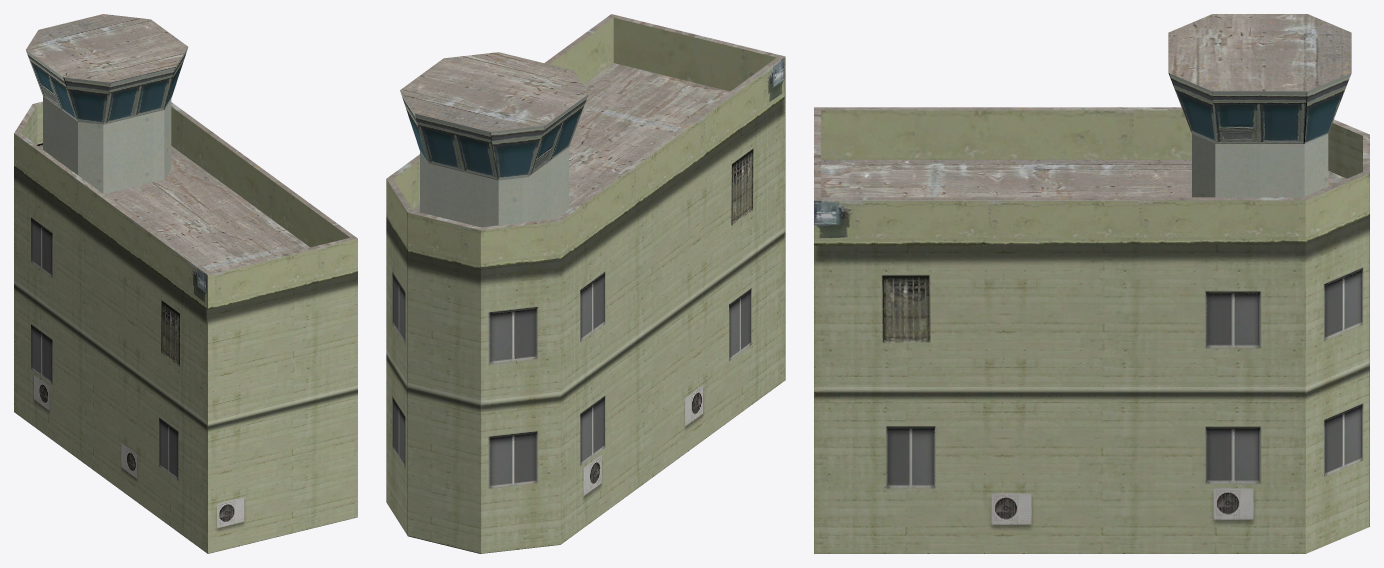
The model's file is llmg_twr.gltf.
The picture shows the model from 3 angles, left to right: view 1: azimuth 30°, elevation 25°; view 2: azimuth 150°, elevation 25°; view 3: azimuth 270°, elevation 25°; orthographic projection. The views are drawn at different scales.
Visible parts, largest first — view 1: node1; view 2: node1; view 3: node1.
Boxes of the visible parts, left/top/right/bottom form: node1: left=14, top=14, right=357, bottom=553; node1: left=386, top=14, right=785, bottom=553; node1: left=814, top=14, right=1369, bottom=553.
Bounding box in the file's own units: 3.74 × 8.54 × 9.46.
